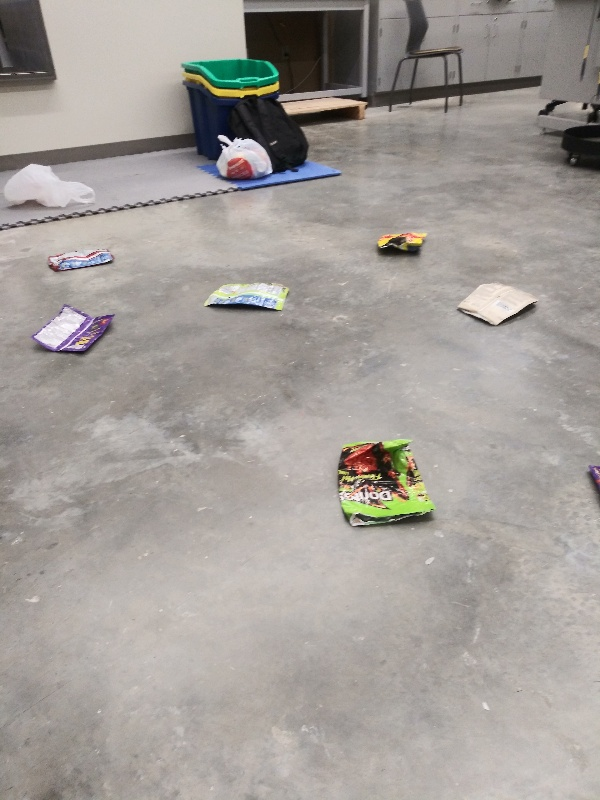bag: (333, 435, 437, 531), (28, 302, 114, 357), (450, 280, 543, 330), (201, 280, 291, 316), (48, 240, 117, 277), (376, 229, 434, 256)
